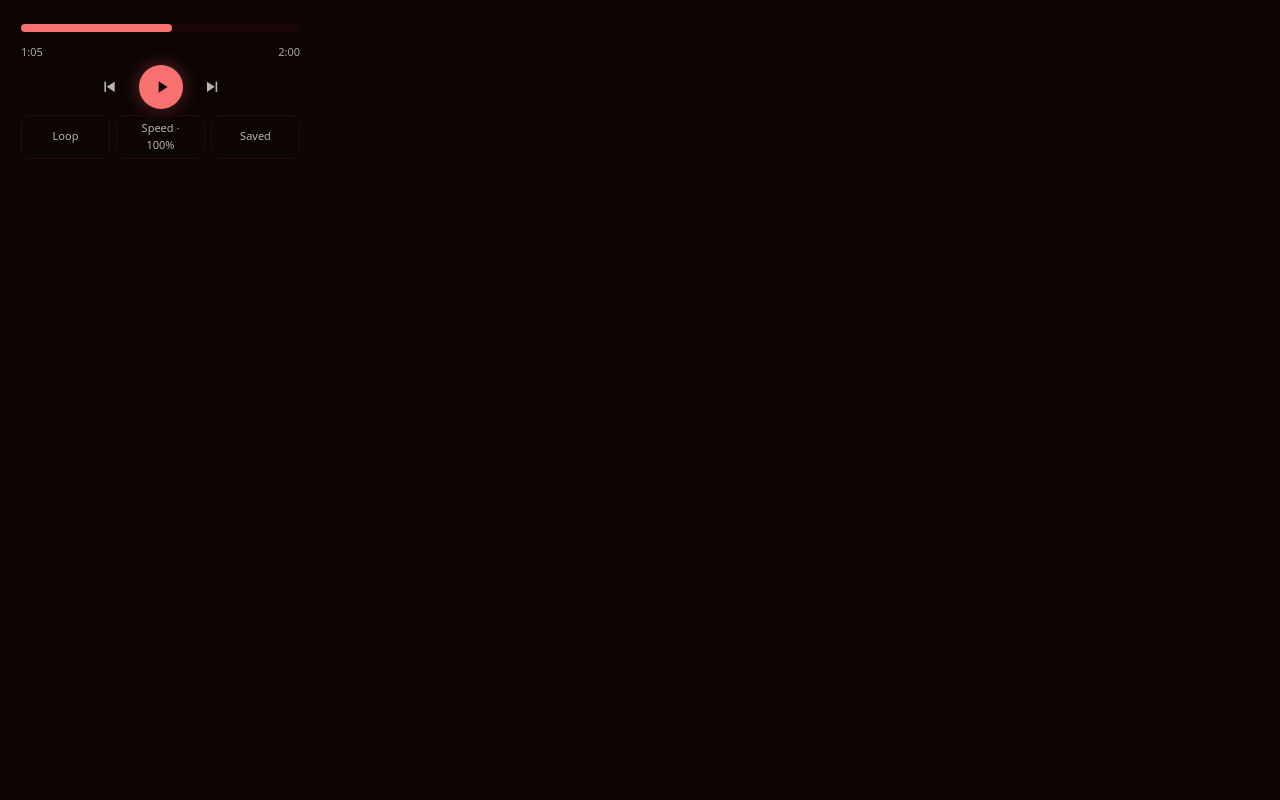
Scenario: mobile play-mode control dock › closes the drawer from the backdrop
The image size is (1280, 800).
Click the button with aria-label "Saved loops".
click(256, 136)  # box [211,114,300,158]
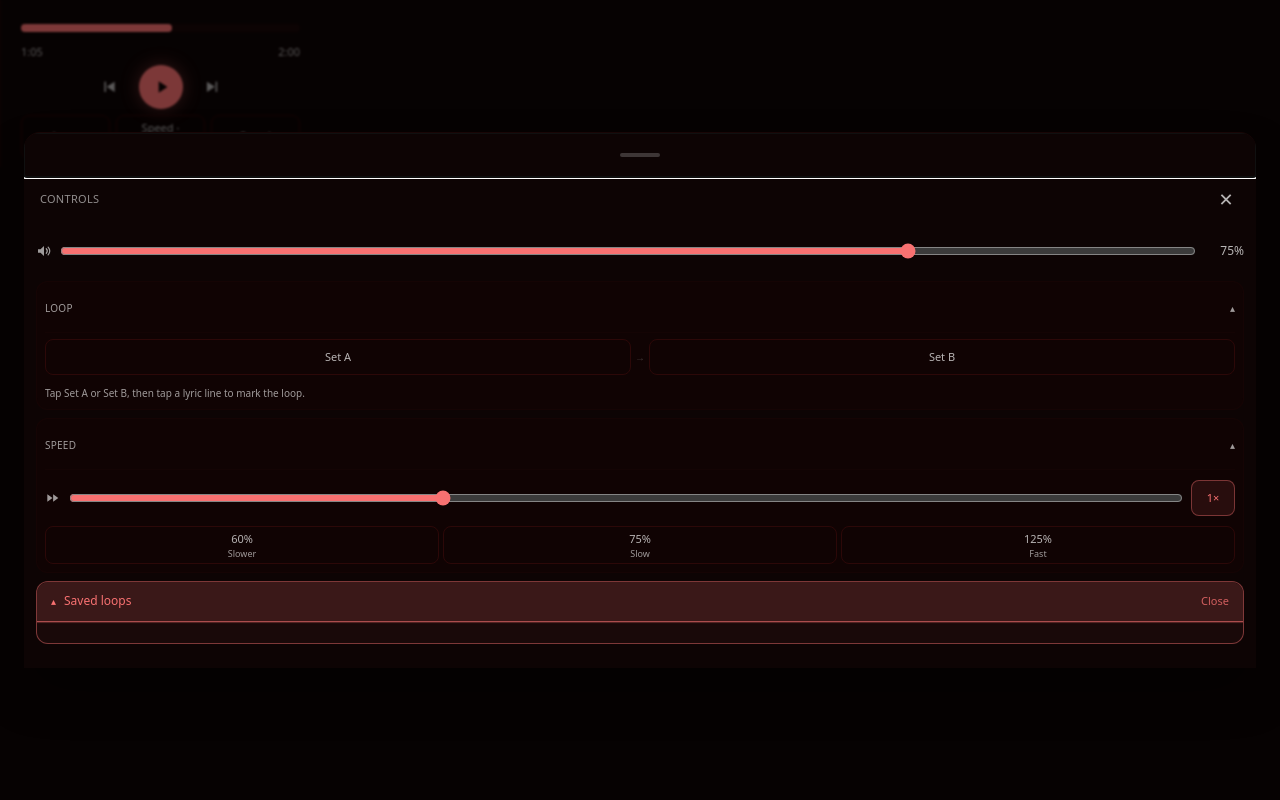
Now the slider named "Volume" is shown, box [60,229,1196,273]
Click the button named "Close".
click(640, 752)  # box [0,0,1279,799]
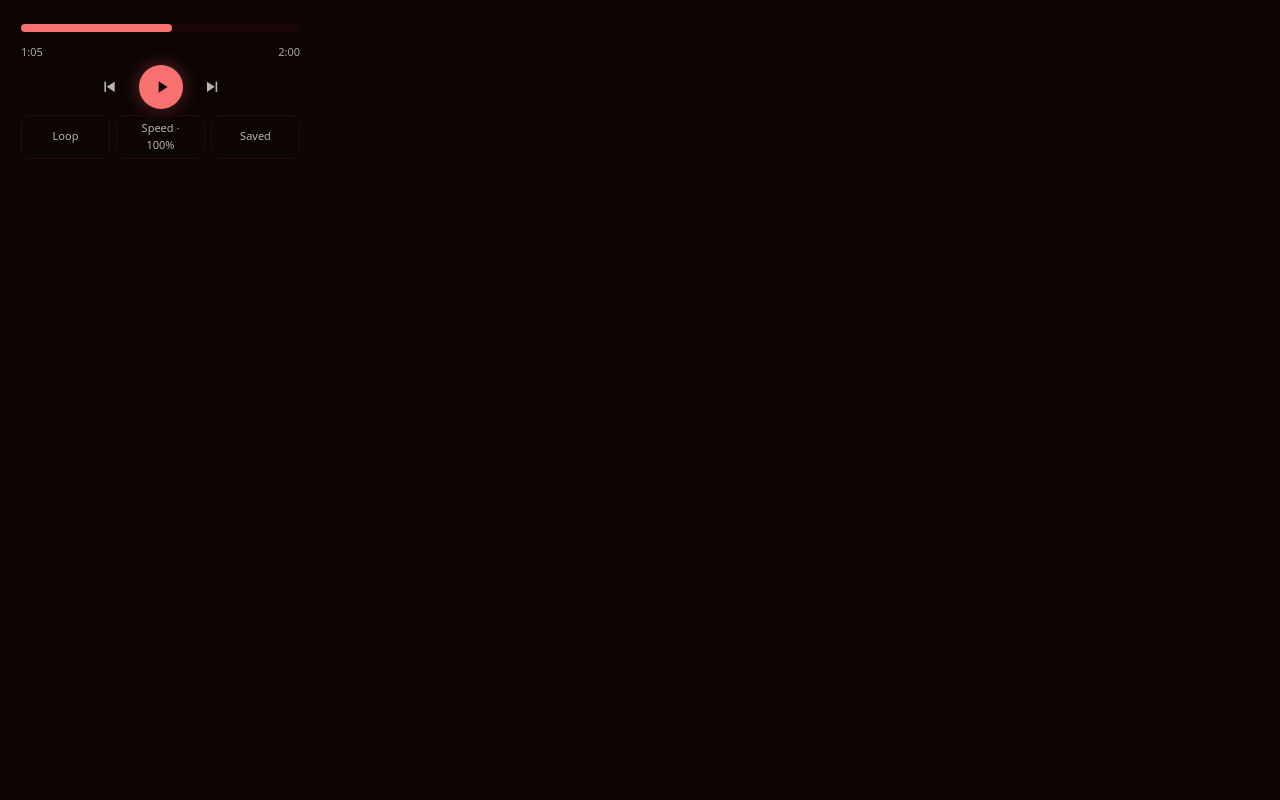
Now the slider labelled "Volume" is gone
